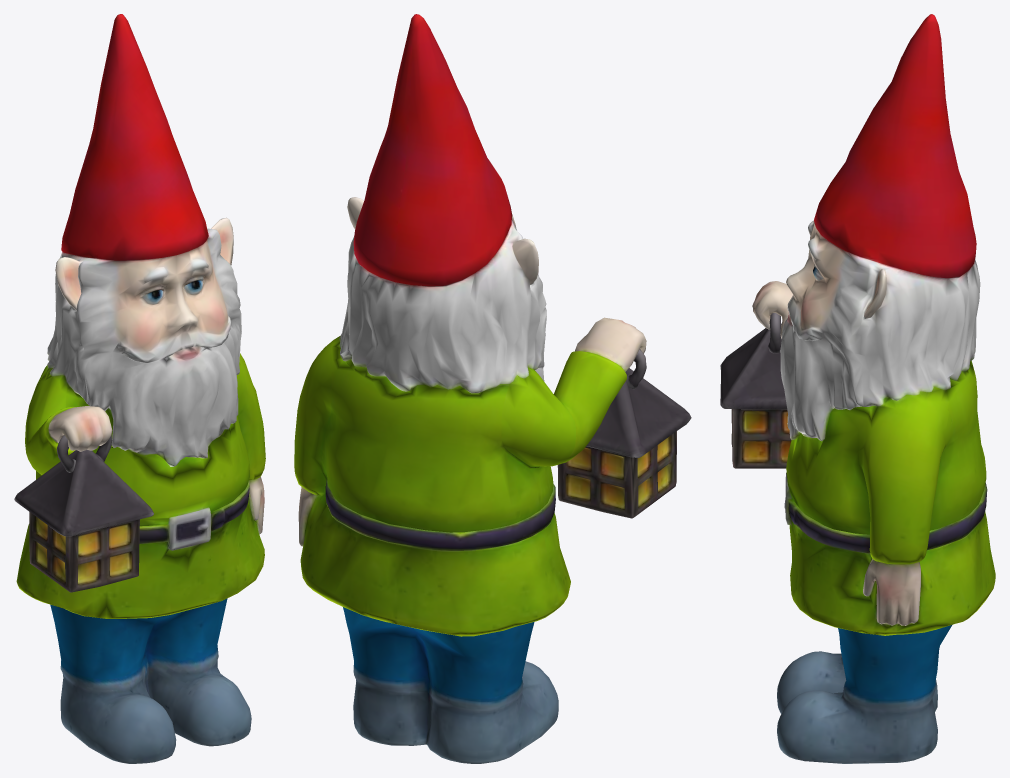
File: garden_gnome.glb
3 renders of one model, left to right at view 1: azimuth 30°, elevation 25°; view 2: azimuth 150°, elevation 25°; view 3: azimuth 270°, elevation 25°, orthographic. The views are drawn at different scales.
Visible parts, largest first — view 1: garden_gnome; view 2: garden_gnome; view 3: garden_gnome.
Part boxes in pixels (bbox=[...]): garden_gnome: bbox=[14, 14, 265, 763]; garden_gnome: bbox=[294, 14, 691, 763]; garden_gnome: bbox=[720, 14, 995, 763].
Size of the model in its own units: 0.2575 by 0.5989 by 0.2097.
Materials: 1 (1 with a texture image).
